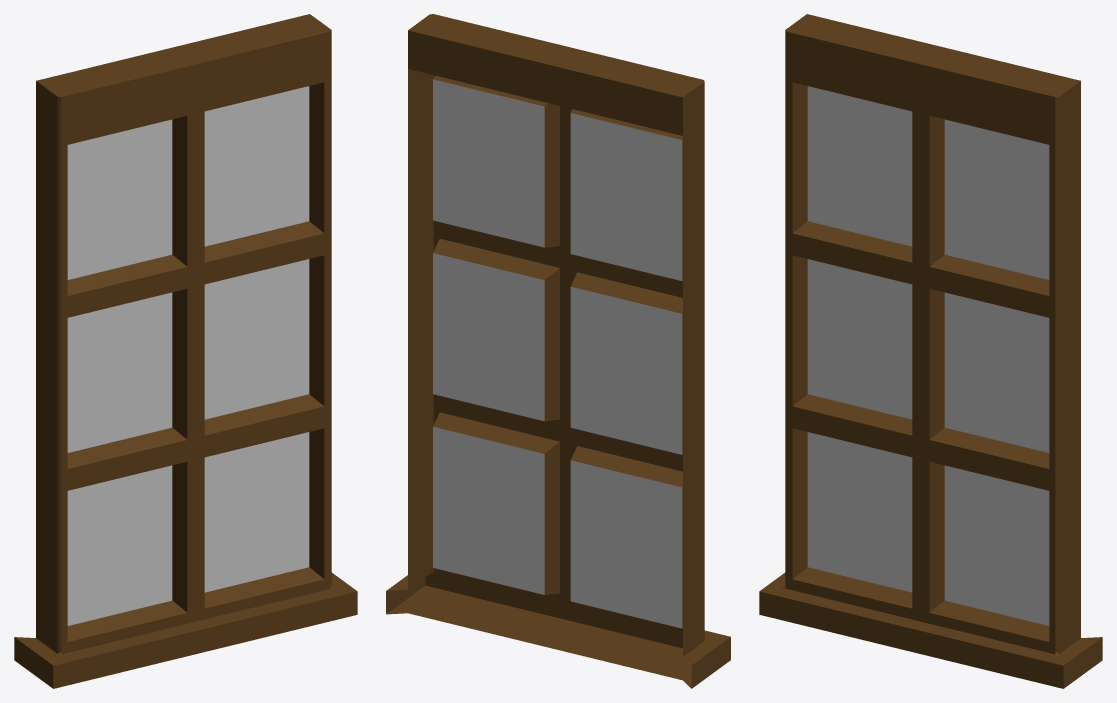
Rendered from Window.fbx.
The picture shows the model from 3 angles, left to right: view 1: azimuth 30°, elevation 25°; view 2: azimuth 150°, elevation 25°; view 3: azimuth 330°, elevation 25°; orthographic projection.
Visible parts, largest first — view 1: Plane.001; view 2: Plane.001; view 3: Plane.001.
Boxes of the visible parts, left/top/right/bottom form: Plane.001: left=14, top=14, right=357, bottom=688; Plane.001: left=386, top=14, right=730, bottom=688; Plane.001: left=759, top=14, right=1102, bottom=688.
Size of the model in its own units: 737 by 1344 by 165.
